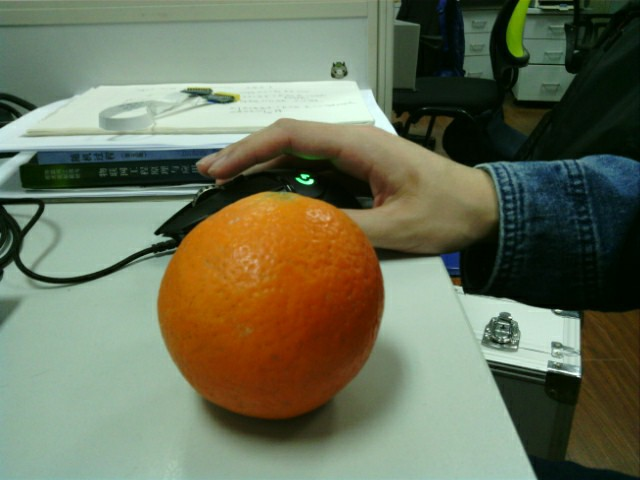normal_orange: (158, 192, 385, 417)
